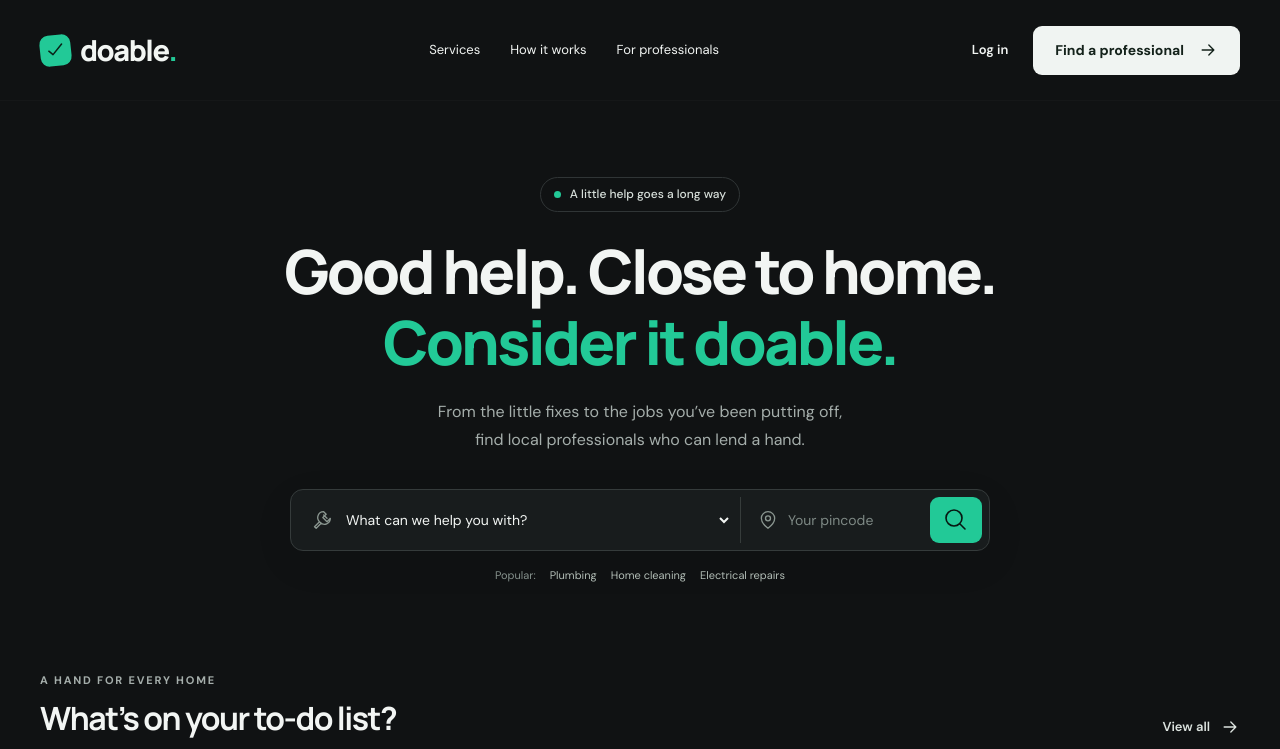
Scenario: landing service and pincode search navigates to matching public results
Expected: the heading "Good help. Close to home.Consider it doable." is shown, [284,229,996,383]
Select "Plumber" in the dropdown named "Service": x=537, y=520 [342,497,732,543]
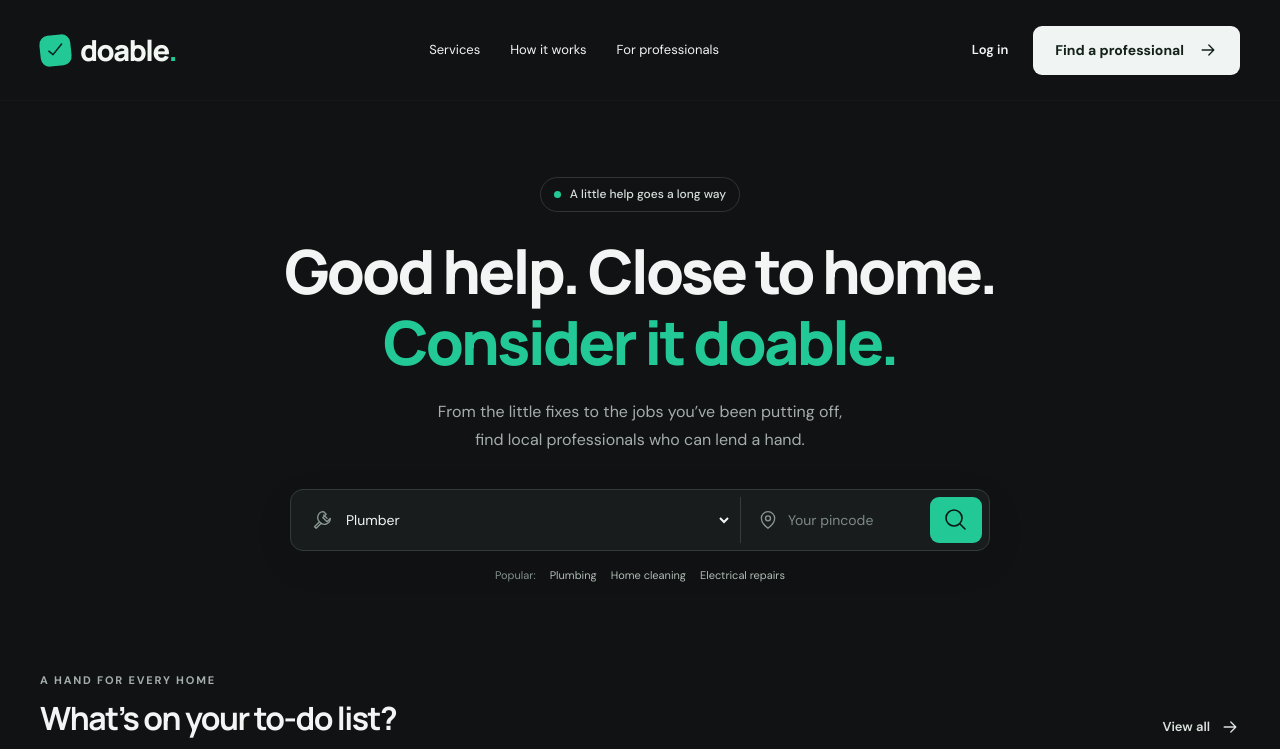
In the field named "Six-digit pincode": x=854, y=520 [788,497,920,543], type "110001"
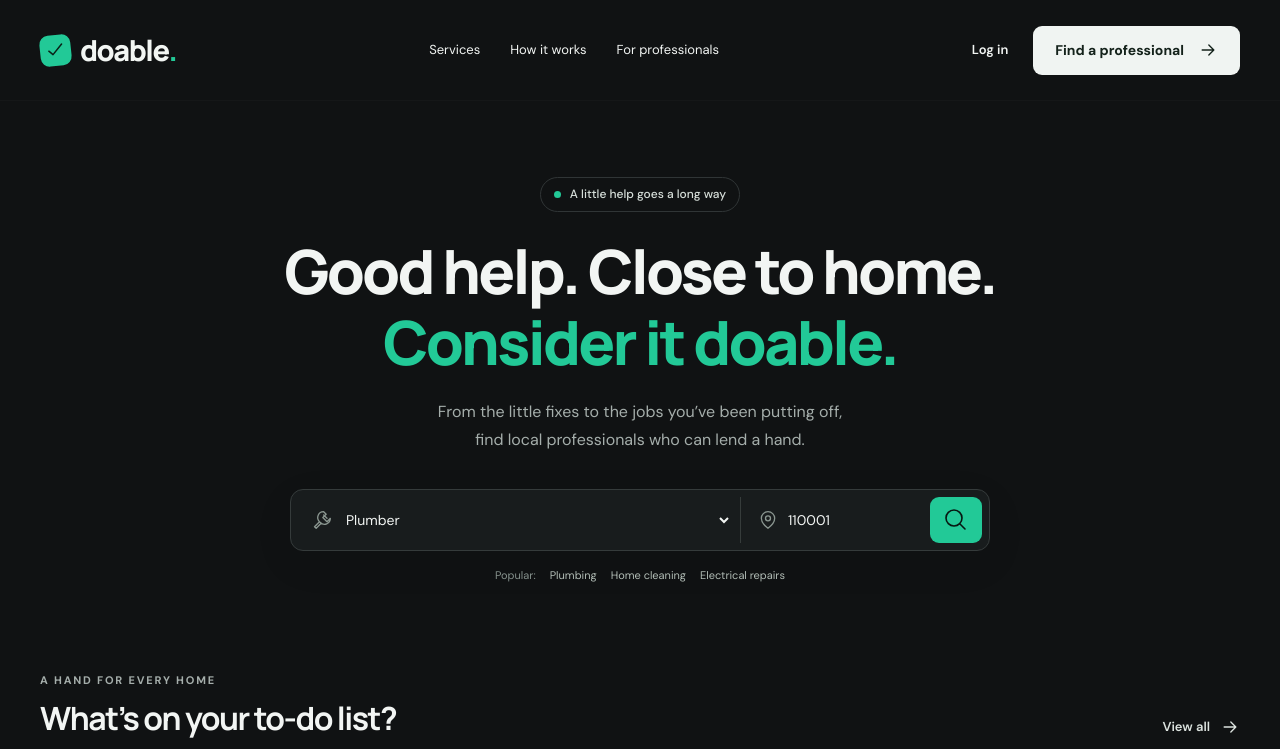
Click the button named "Find professionals": x=956, y=520 [930,497,982,543]
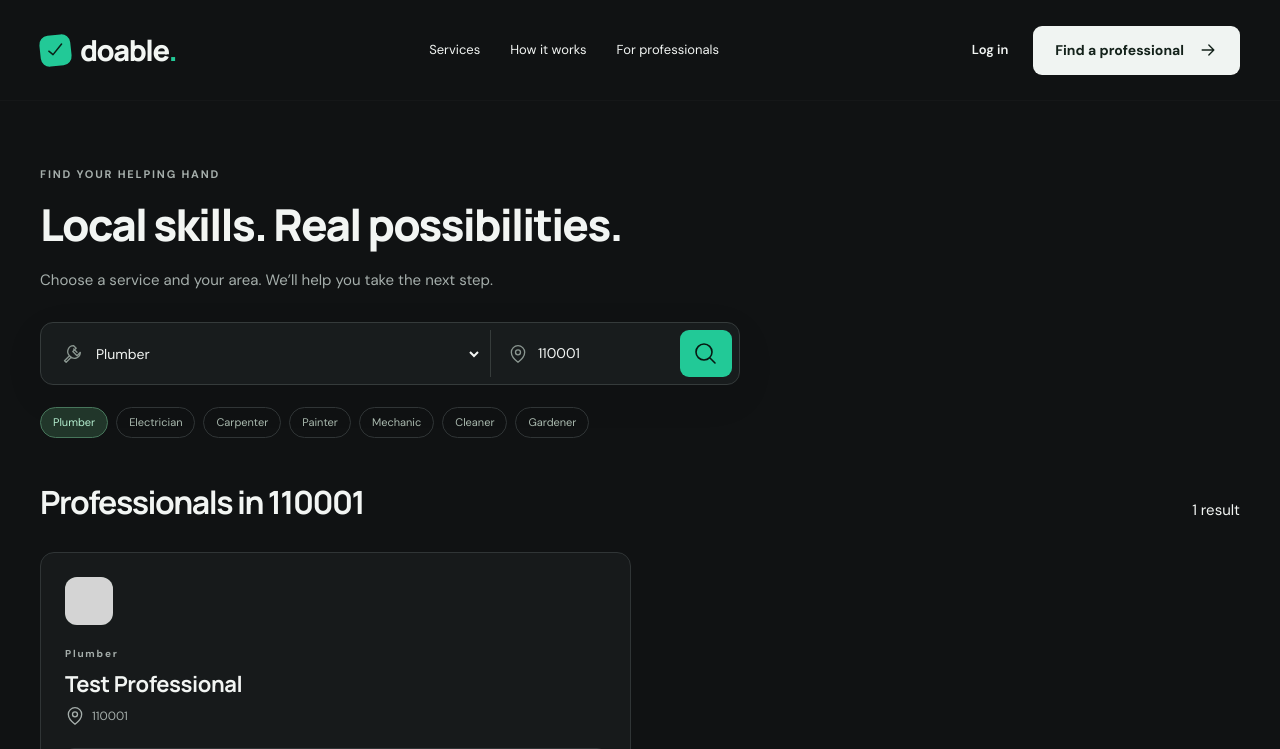
Expected: the heading "Test Professional" is shown, [65,671,242,697]
